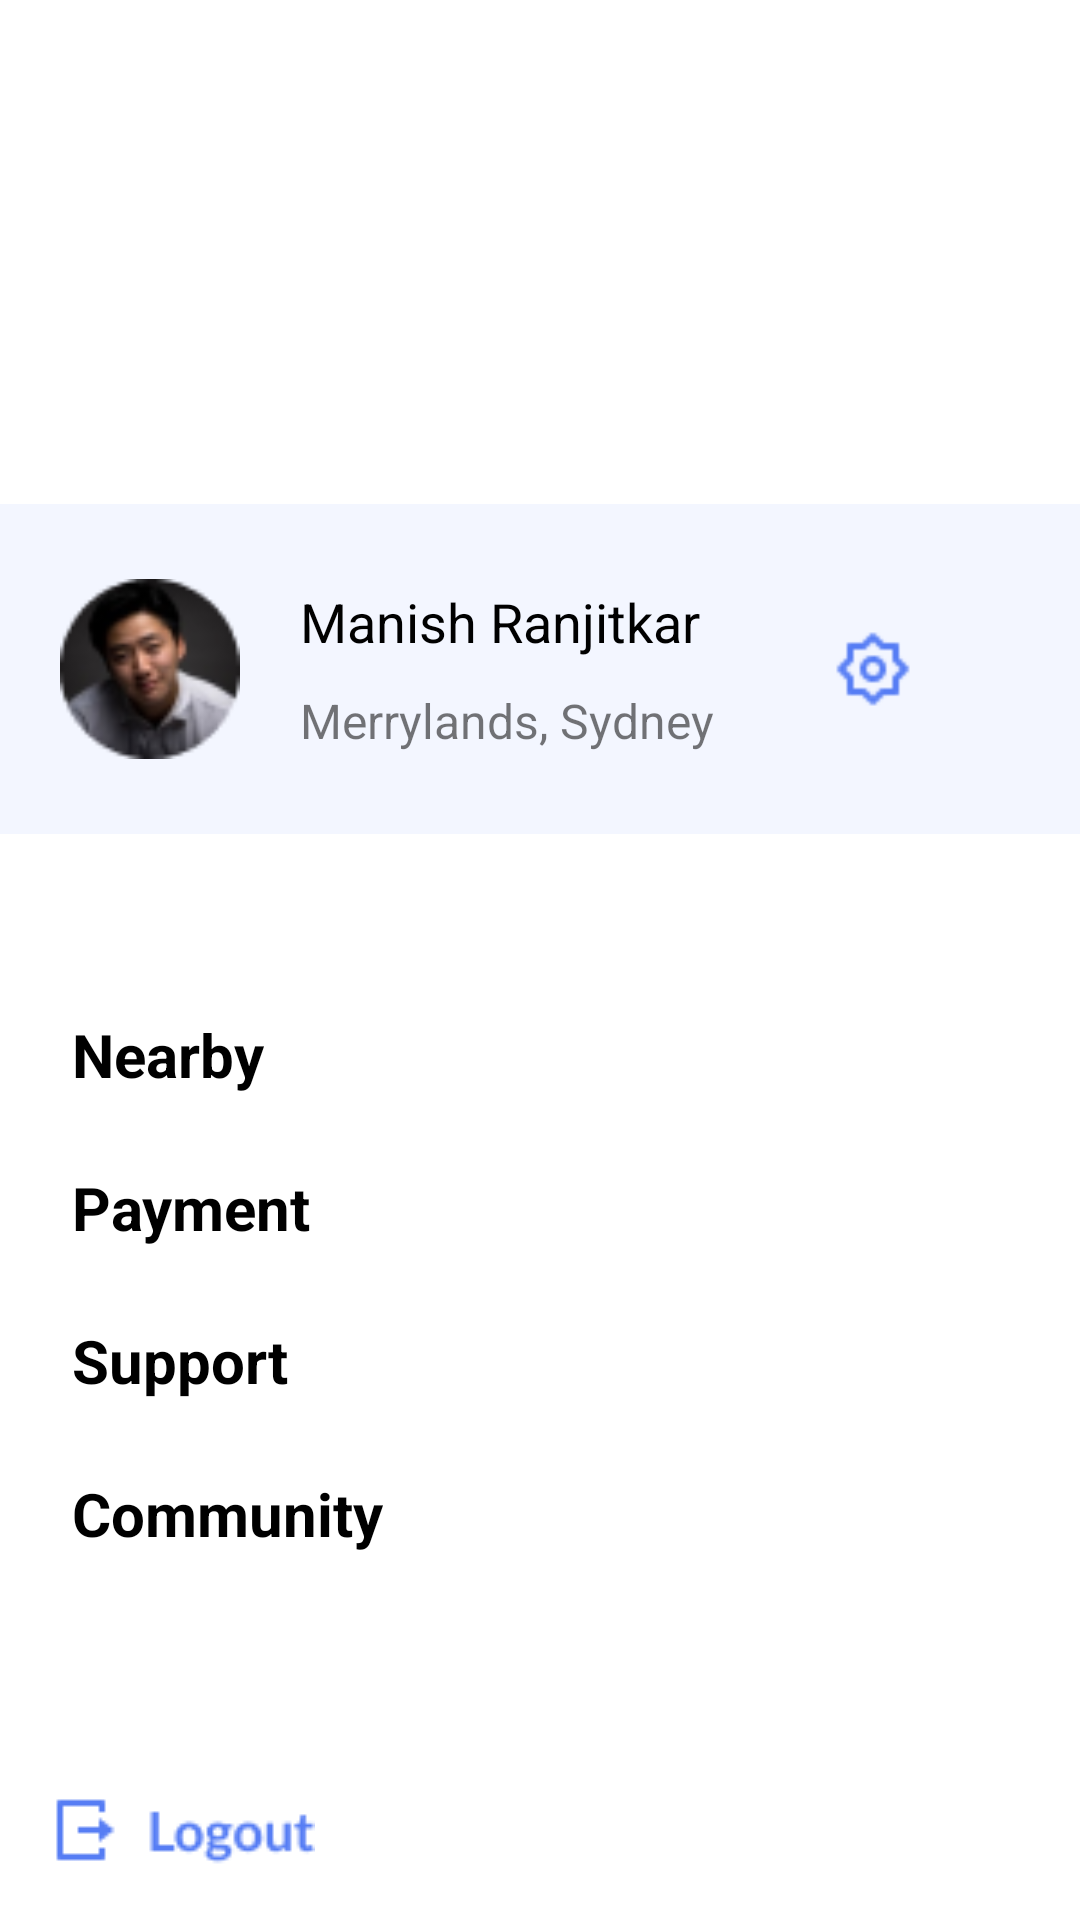

Where icons sit on this 1080 x 1920 app screen, as bbox(x1, y1, x2, y2):
drawer profile: bbox(60, 579, 240, 759)
settings: bbox(836, 632, 910, 706)
